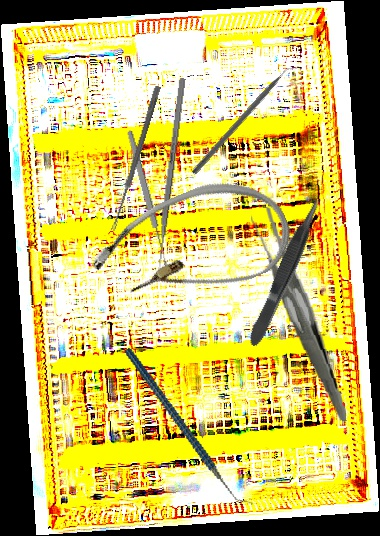Cannula: (80, 160, 303, 334)
Chopper: (124, 326, 254, 528), (190, 59, 303, 181)
Dressing Forceps: (250, 202, 347, 427)
Pusher: (154, 77, 186, 278)
Surgical Spoon: (110, 85, 161, 232), (125, 129, 171, 271)
Tissue Forceps: (242, 192, 329, 349)
